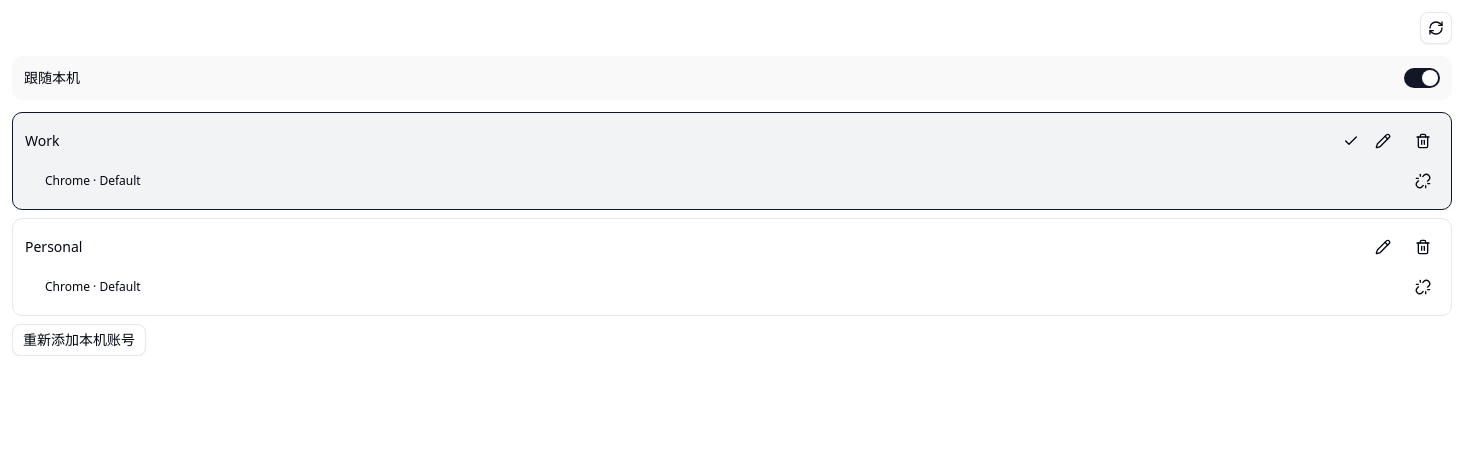
Test: Account Management › blocks removing another account until pending cache cleanup succeeds
Check: the radio button labelled "Work" is shown, box [25, 131, 1359, 151]
Click the button named "移除 Work" at (1423, 141), box [1407, 125, 1439, 157]
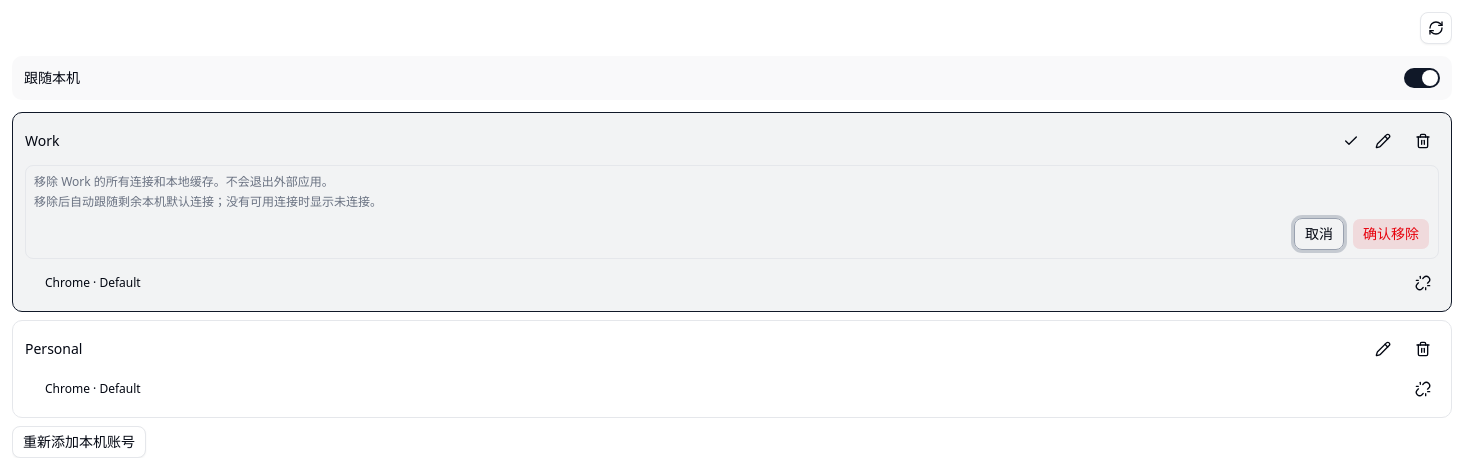
Click the button "确认移除" at (1391, 234), box [1352, 218, 1430, 250]
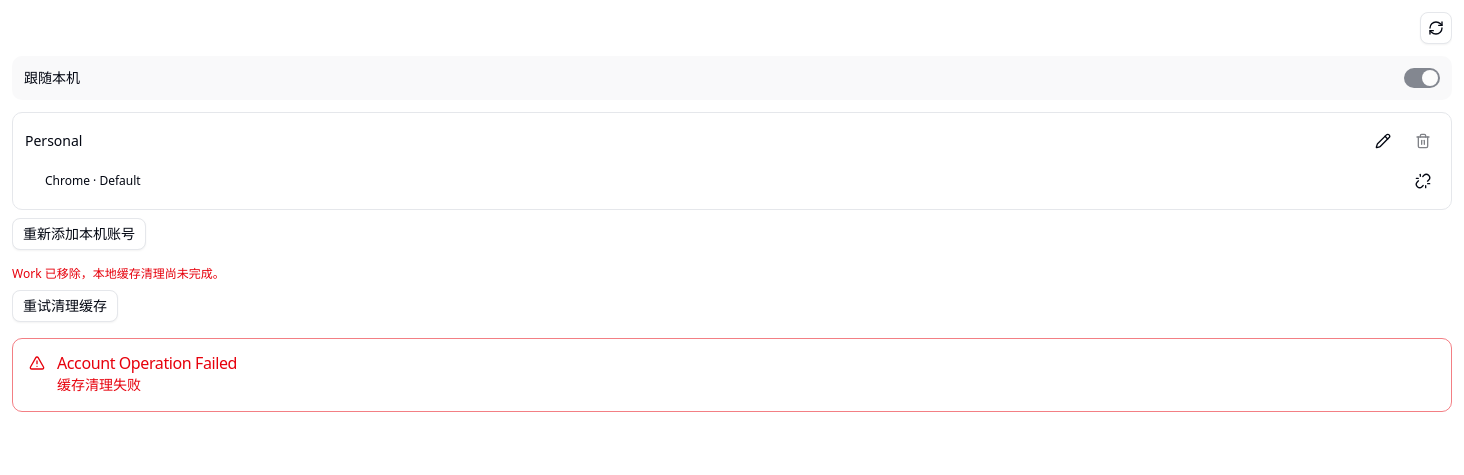
Check: the button named "移除 Personal" is disabled
Click the button named "移除 Personal" at (1423, 141), box [1407, 125, 1439, 157]
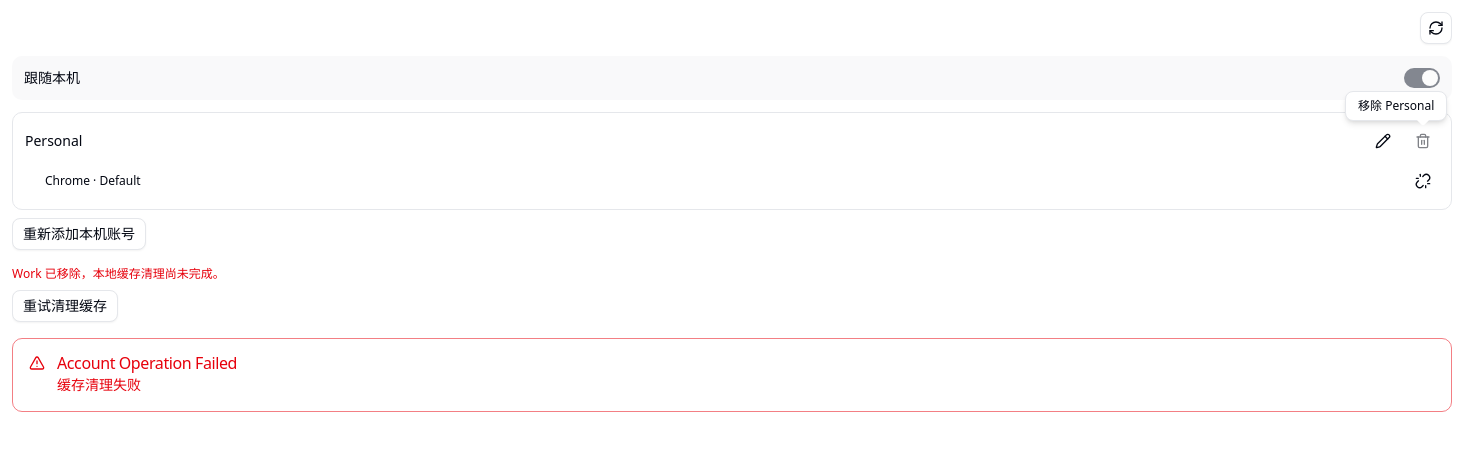
Check: the button "重试清理缓存" is enabled
Click the button "重试清理缓存" at (65, 306), box [12, 290, 118, 322]
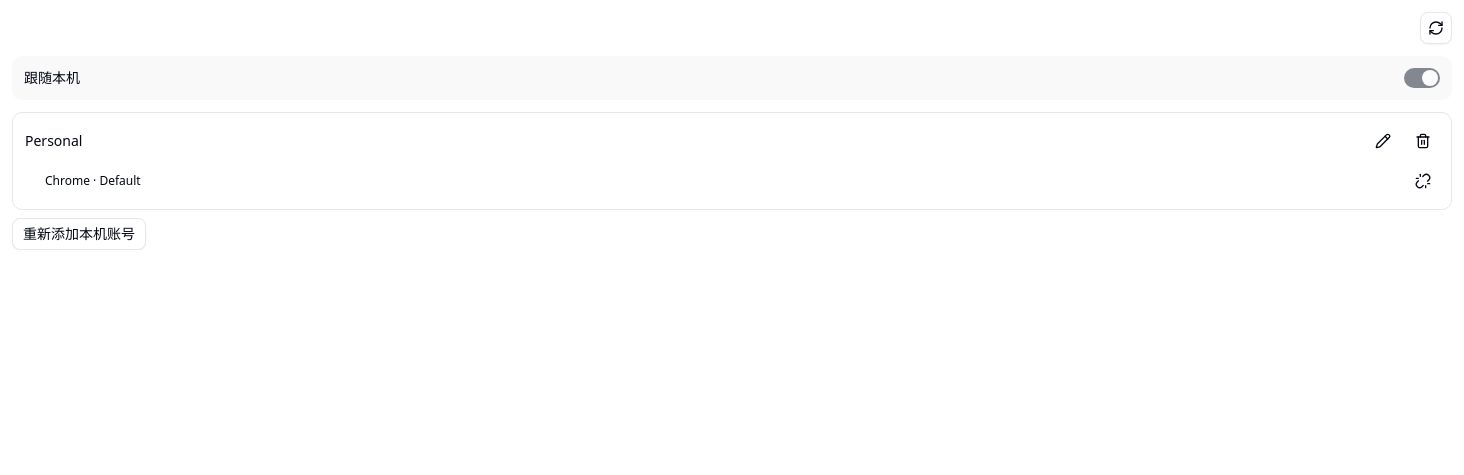
Check: the button named "移除 Personal" is enabled, box [1407, 125, 1439, 157]
